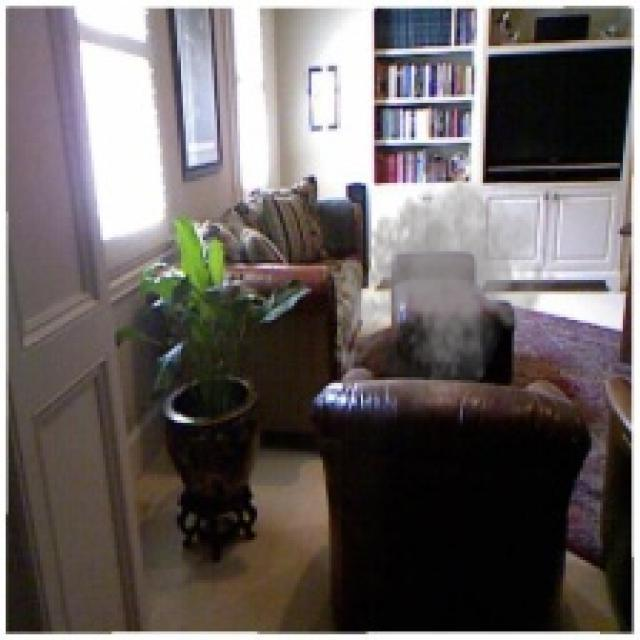Smoke: (328, 168, 560, 412)
